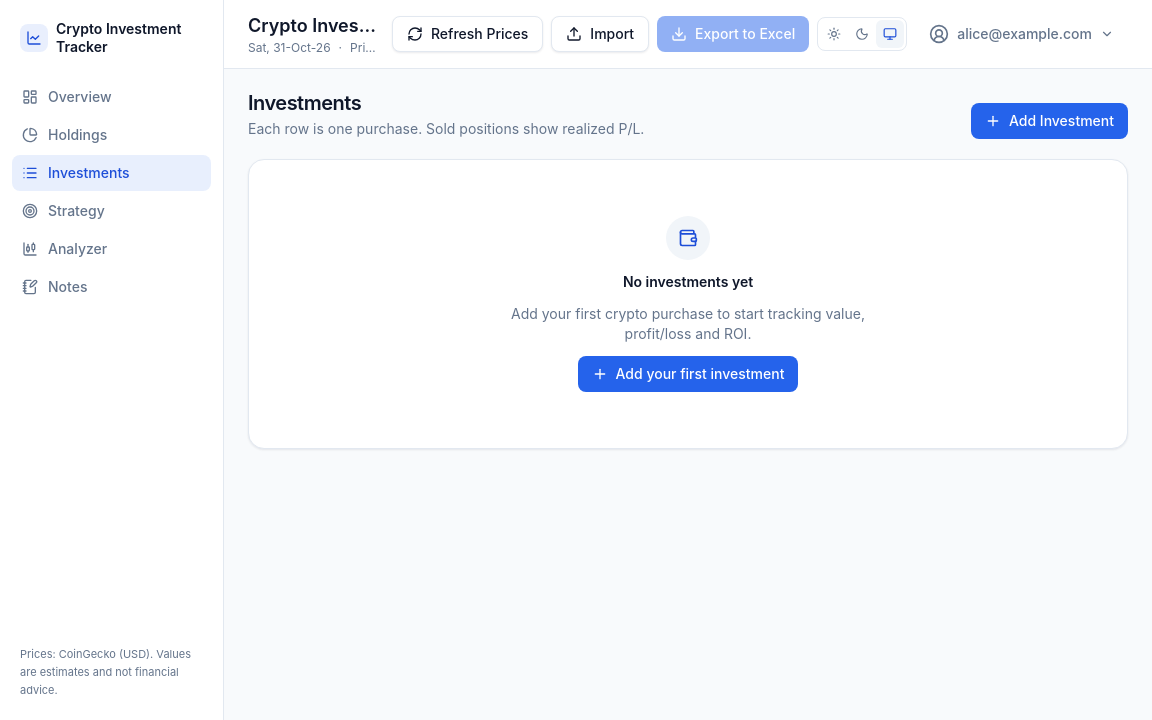
Dashboard › rejects a buy date it cannot read
This screenshot has width=1152, height=720.
Click the button "Add your first investment" at point(688, 374), box [578,356,798,392]
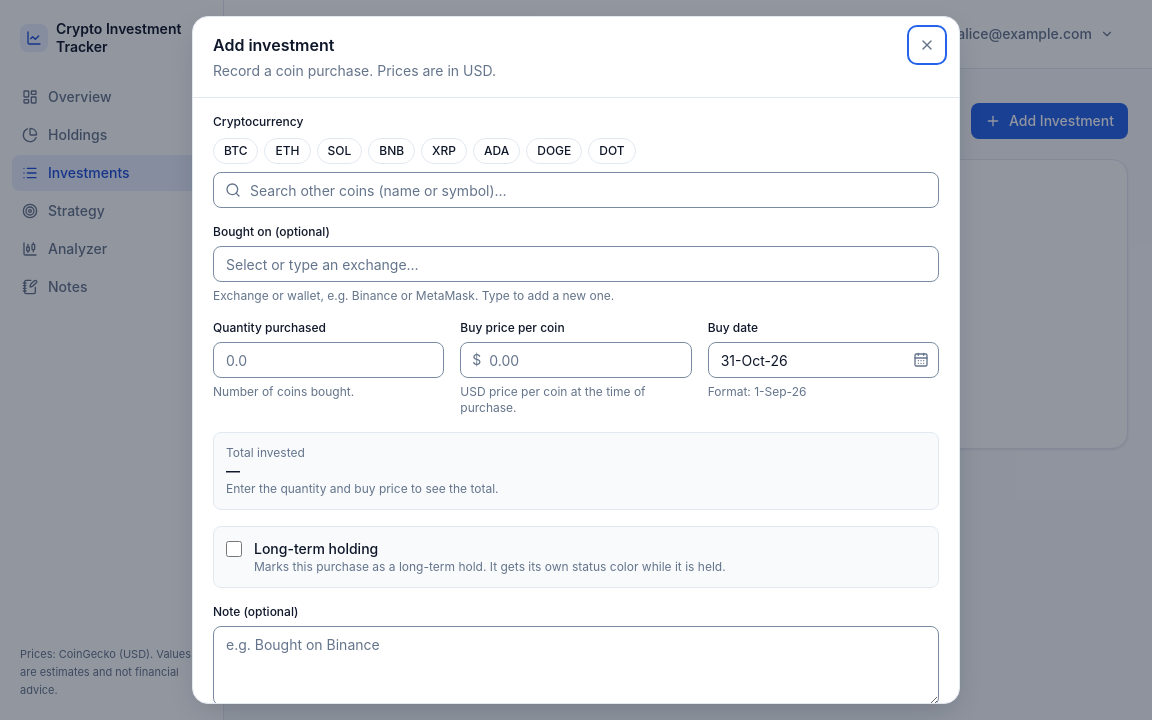
Replace the text in the field labelled "Buy date" with "31-Feb-26" at point(823, 360), box [708,342,939,378]
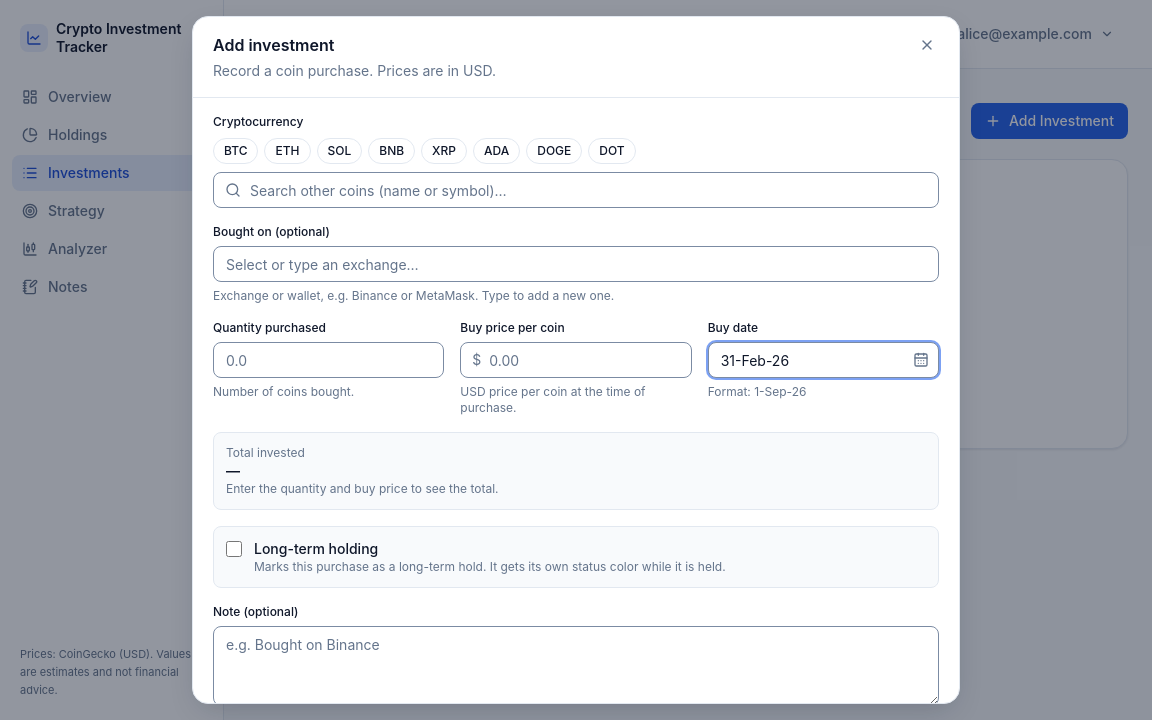
Click the field labelled "Quantity purchased" at point(329, 360), box [213,342,444,378]
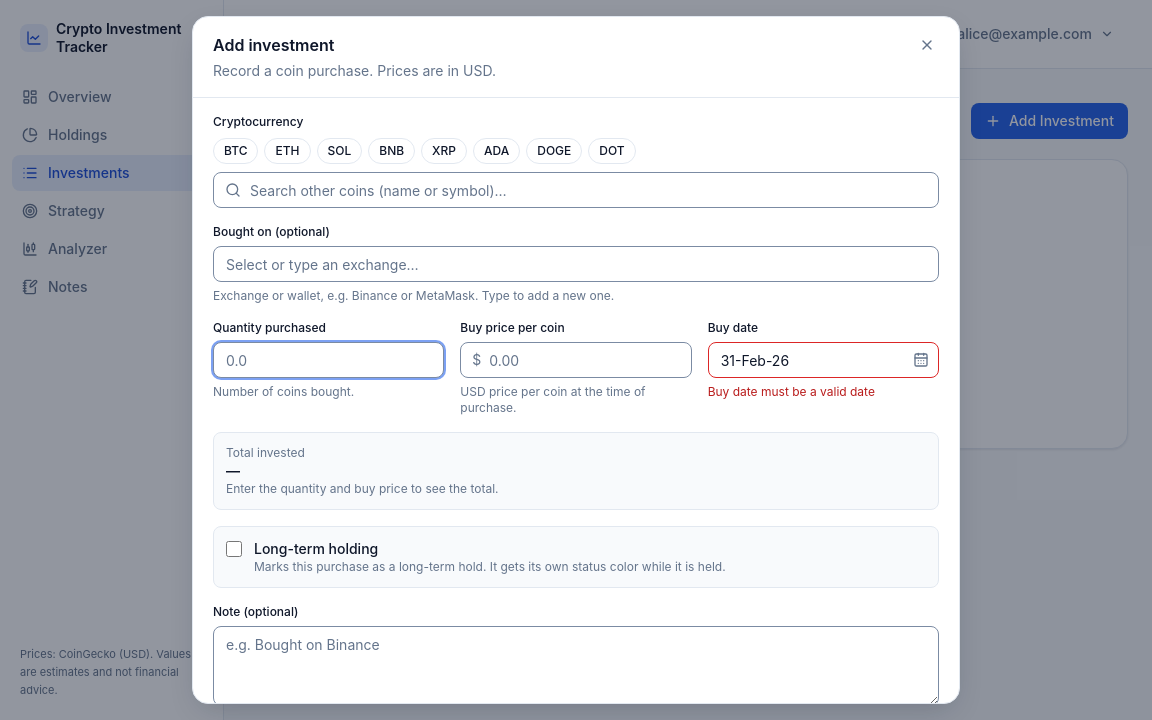
Result: the text "Buy date must be a valid date" is shown at [708,384,875,399]
